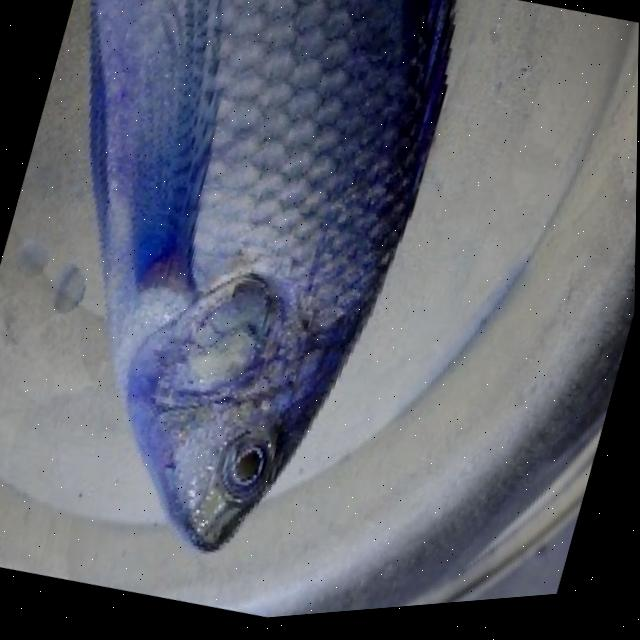Fresh: (33, 0, 508, 587), (193, 418, 292, 527)
